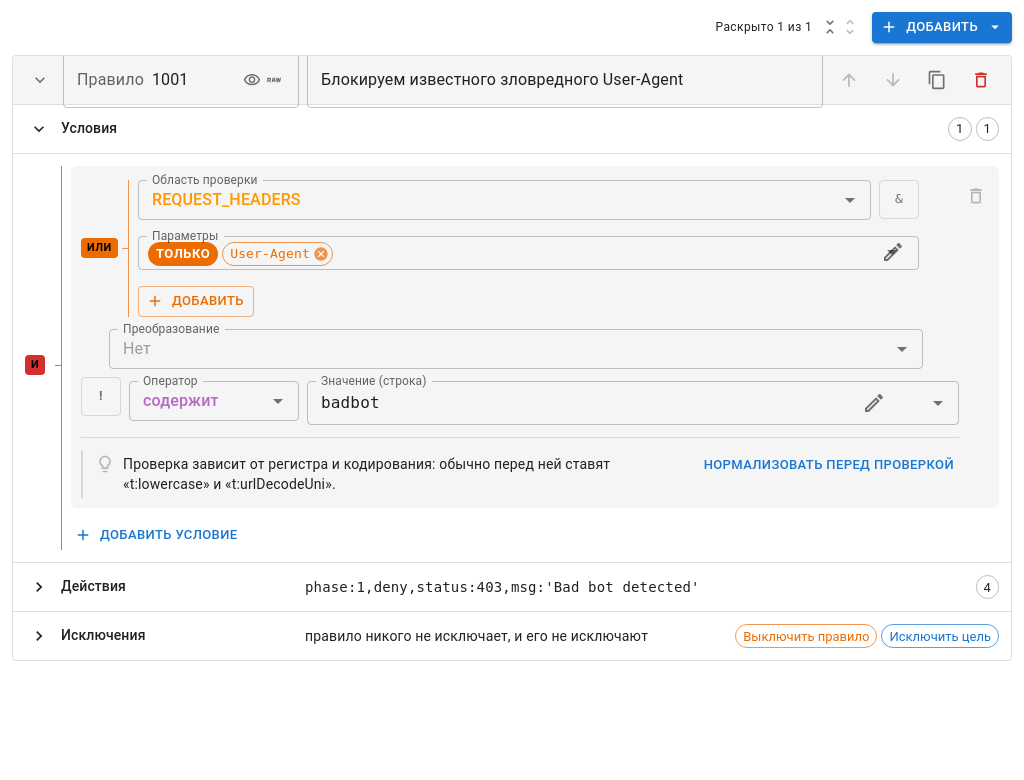
it: VisualBuilder — правки уходят в текст правила › переключает параметры в исключения одним нажатием
Click the button "ТОЛЬКО" at (183, 254), box [148, 242, 218, 266]
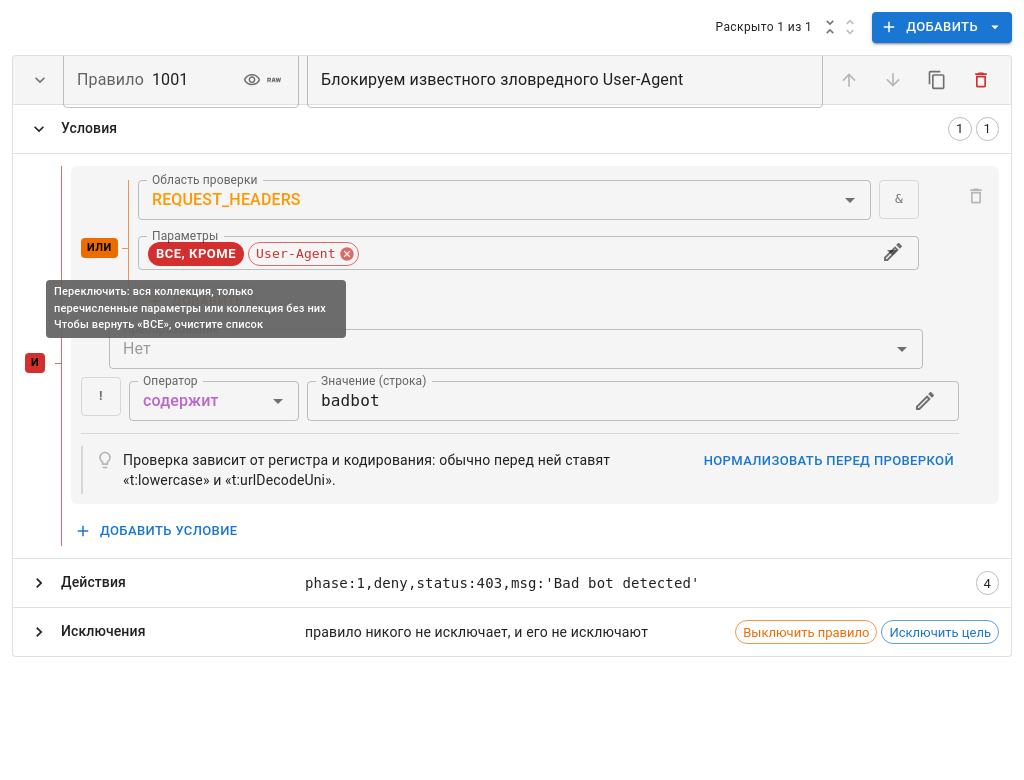
Result: the button "ВСЕ, КРОМЕ" is shown at [148, 242, 244, 266]
